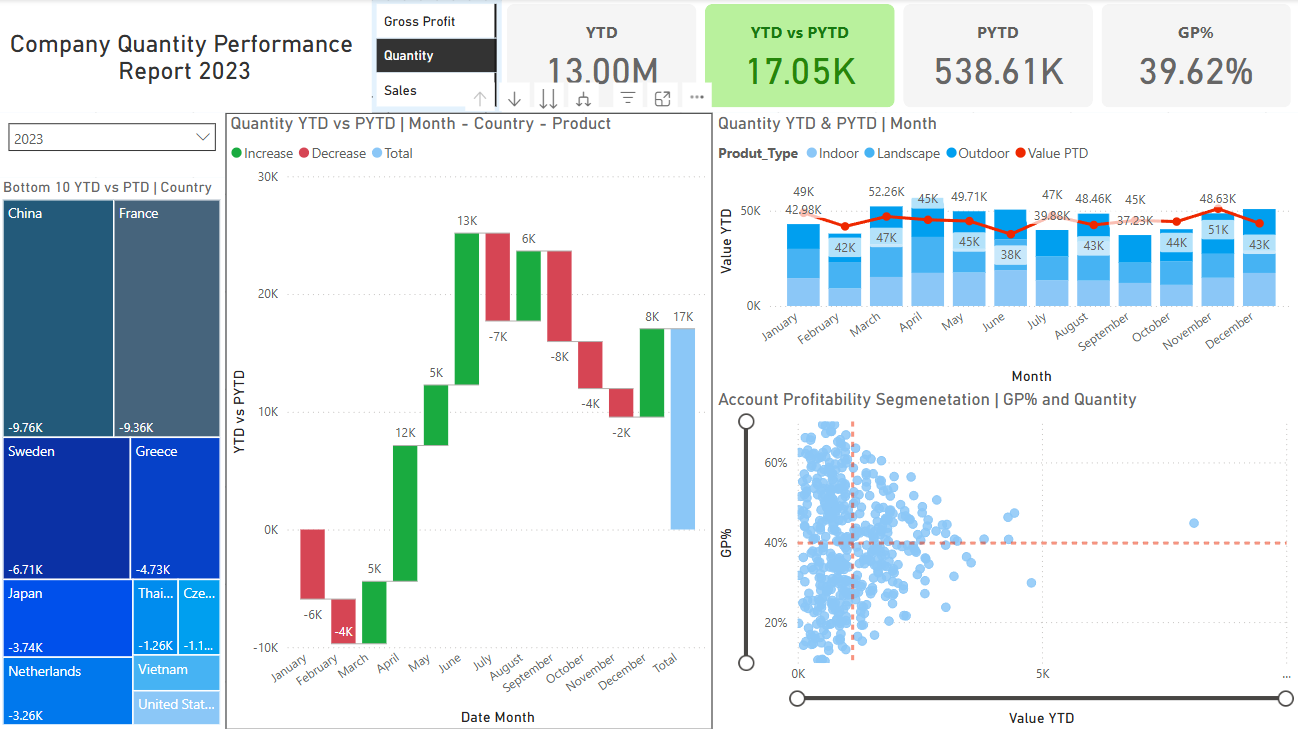

Layout of this report page (visuals, bound fields, positions):
{"tool":"powerbi","page":{"name":"Performance Report","canvas":[1280,720],"ordinal":0},"visuals":[{"type":"cardVisual","fields":{"Data":["_Measures.YTD_Sales","_Measures.YTD vs PYTD","_Measures.S_PYTD","_Measures.GP%"]},"box":[496,0,784,112],"z":0},{"type":"advancedSlicerVisual","fields":{"Values":["Slc_Values.Values"]},"box":[368,0,128,112],"z":1000},{"type":"slicer","fields":{"Values":["Dim_Date.Date.Variation.Date Hierarchy.Year"]},"box":[0,112,224,64],"z":2000},{"type":"treemap","title":"Bottom 10 YTD vs PTD | Country","fields":{"Values":["_Measures.YTD vs PYTD"],"Group":["Dim_Account.country"]},"box":[0,176,224,544],"z":3000},{"type":"waterfallChart","fields":{"Y":["_Measures.YTD vs PYTD"],"Category":["Dim_Date.Date.Variation.Date Hierarchy.Month","Dim_Account.country","Dim_Product.Produt_Type","Dim_Product.Product_Name"]},"box":[224,112,480,608],"z":4000},{"type":"lineStackedColumnComboChart","fields":{"Y":["_Measures.S_YTD"],"Y2":["_Measures.S_PYTD"],"Category":["Dim_Date.Date.Variation.Date Hierarchy.Quarter","Dim_Date.Date.Variation.Date Hierarchy.Month"],"Series":["Dim_Product.Produt_Type"]},"box":[704,112,576,272],"z":5000},{"type":"scatterChart","fields":{"Y":["_Measures.GP%"],"X":["_Measures.S_YTD"],"Category":["Dim_Account.Account"]},"box":[704,384,576,336],"z":6000},{"type":"card","fields":{"Values":["_Measures._Report title"]},"box":[0,0,368,112],"z":6001}]}

Visuals, with their boxes in screenshot pixels (x1, y1, x2, y2), scaled from the page's 1280x720 canvas onto the 1298x729 screenshot:
cardVisual - _Measures.YTD_Sales x _Measures.YTD vs PYTD: x1=503, y1=0, x2=1297, y2=113
advancedSlicerVisual - Slc_Values.Values: x1=373, y1=0, x2=503, y2=113
slicer - Dim_Date.Date.Variation.Date Hierarchy.Year: x1=0, y1=113, x2=227, y2=178
"Bottom 10 YTD vs PTD | Country" treemap: x1=0, y1=178, x2=227, y2=728
waterfallChart - _Measures.YTD vs PYTD x Dim_Date.Date.Variation.Date Hierarchy.Month: x1=227, y1=113, x2=714, y2=728
lineStackedColumnComboChart - _Measures.S_YTD x _Measures.S_PYTD: x1=714, y1=113, x2=1297, y2=389
scatterChart - _Measures.GP% x _Measures.S_YTD: x1=714, y1=389, x2=1297, y2=728
card - _Measures._Report title: x1=0, y1=0, x2=373, y2=113
